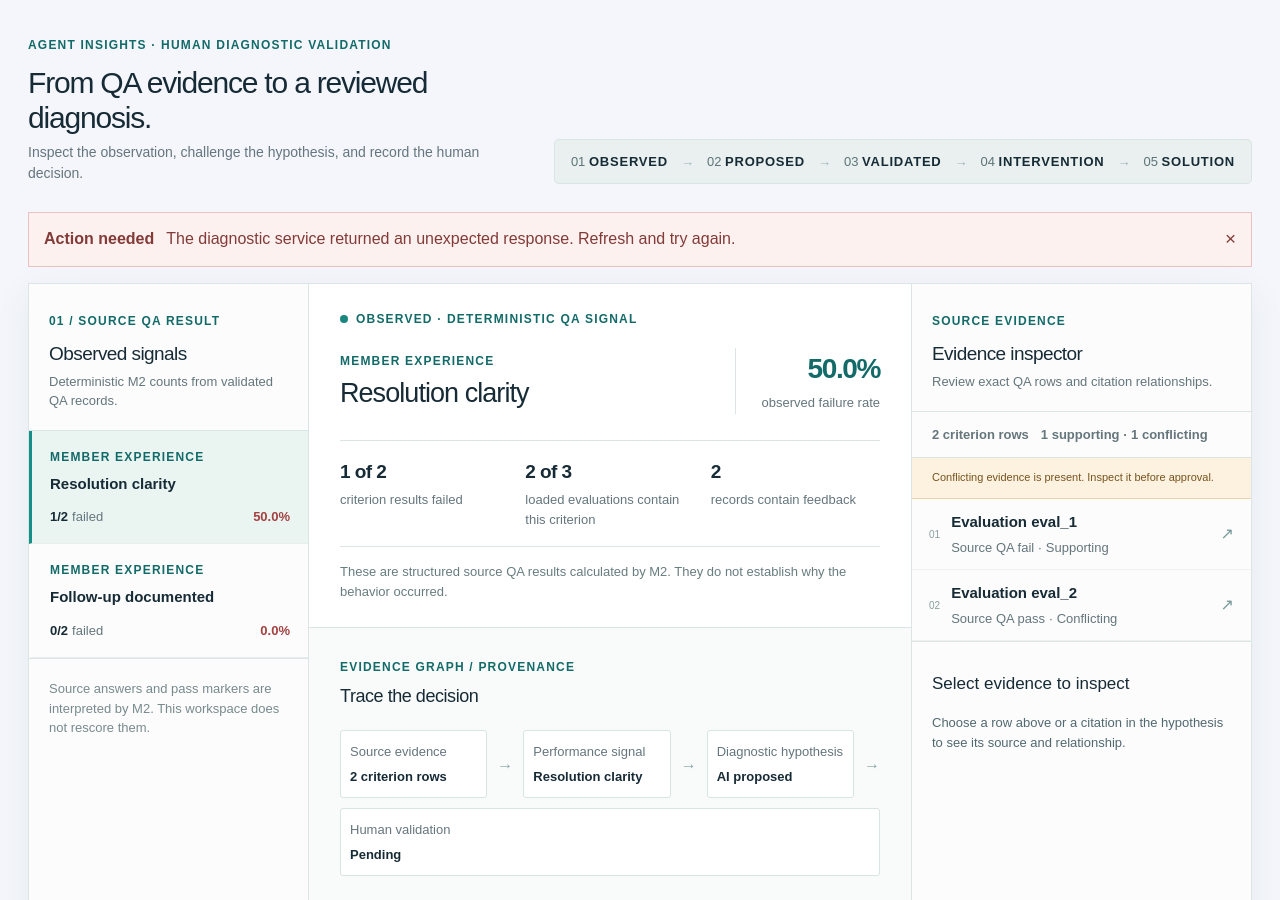
it: diagnostic review semantics › changes the observed workspace when a different signal is selected
Click the button "Member Experience Follow-up documented 0/2 failed 0.0%" at (168, 601), box 29,544 -> 308,658
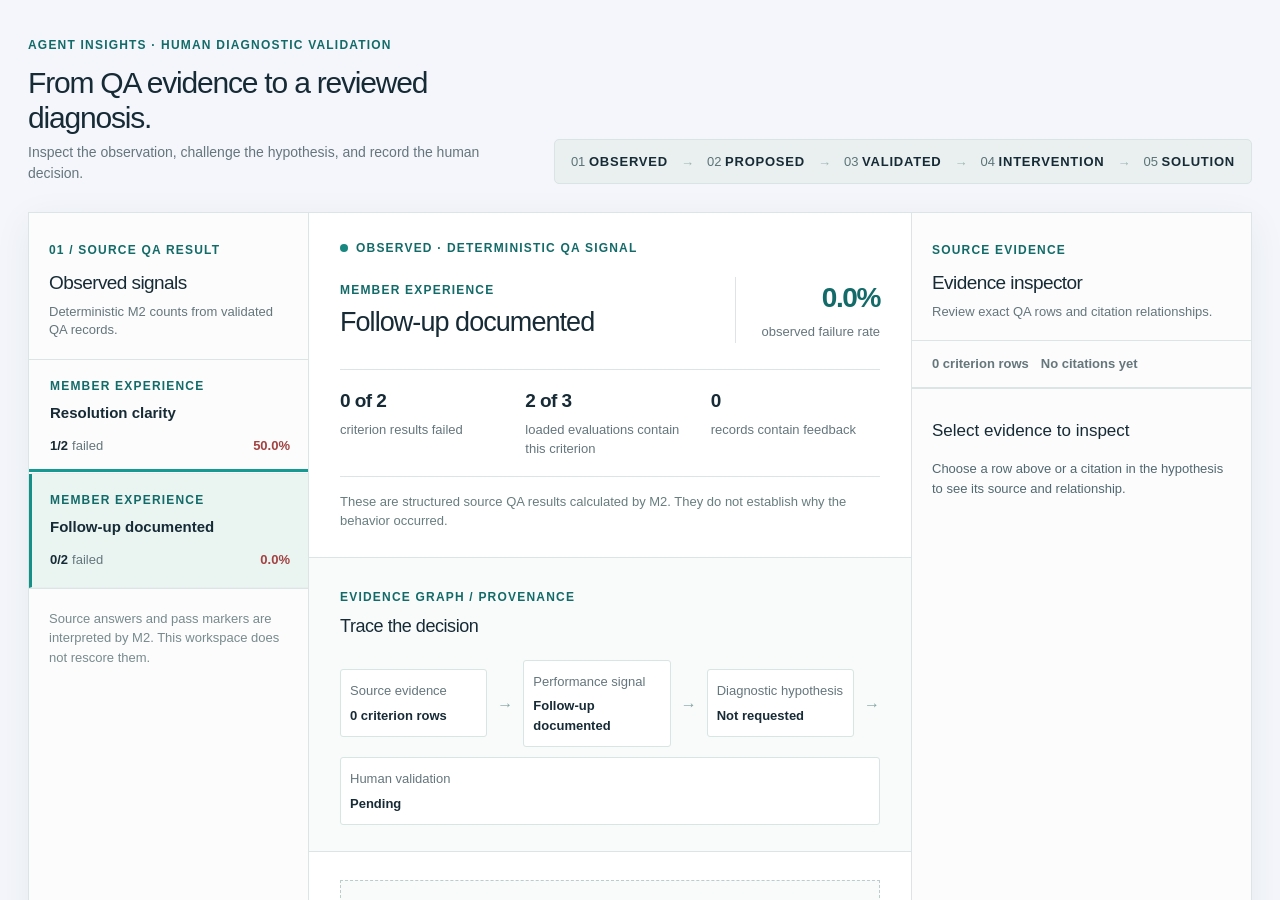
Expected: the text "0.0%" below "Observed signals" is shown, 260,552 -> 290,567
Now the heading "Follow-up documented" is shown, box 340,306 -> 594,339
